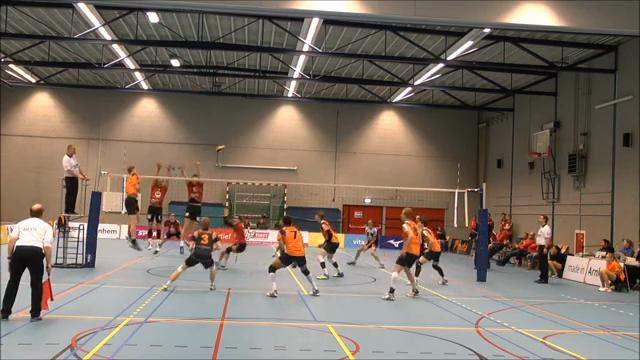attacco: (111, 162, 148, 254)
muro: (139, 160, 174, 254), (181, 156, 204, 255)
